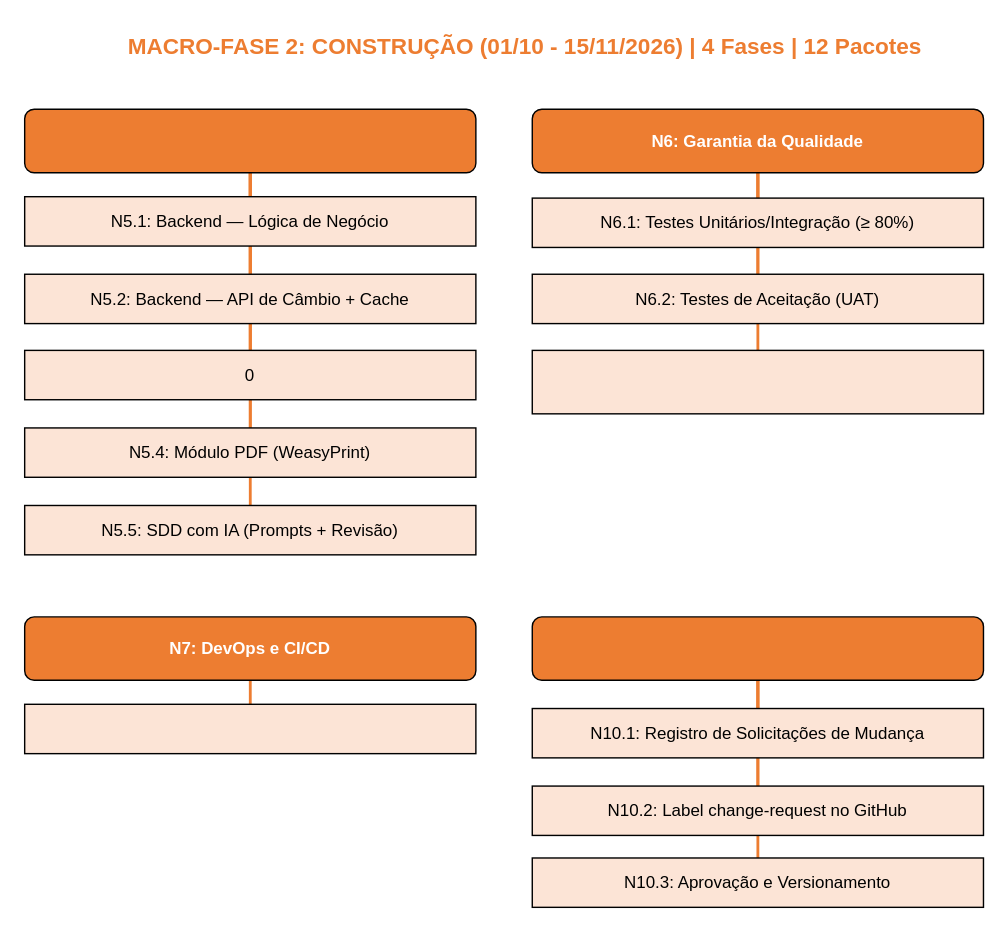
This 1008x932 diagram has some shape labels left out. Here are the shapes that lost their labels. From the top down, the centre of each, then its label:
At point 249,140: "N5: Desenvolvimento do Sistema".
At point 757,381: "N6.3: Aplicação de Ferramentas da Qualidade (12 PDCAs + Ishikawa 6M)".
At point 757,647: "N10: Gestão de Mudanças".
At point 249,728: "N7.1: Pipeline CI (lint + testes)".
